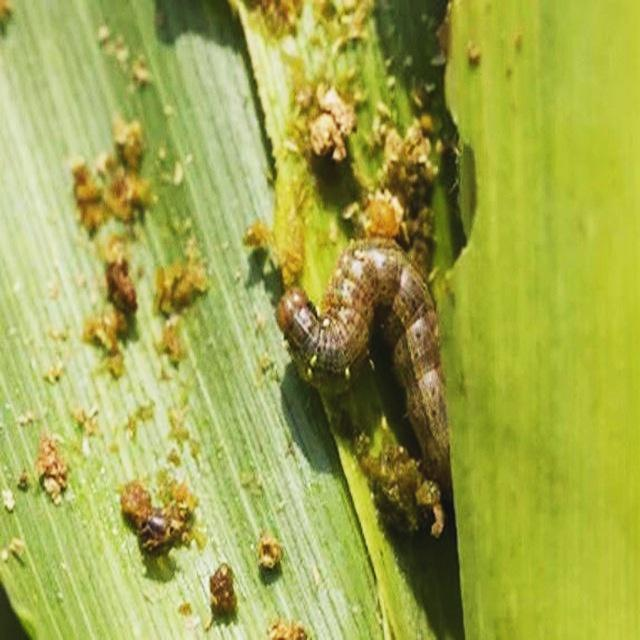Plaga: (280, 241, 450, 486)
